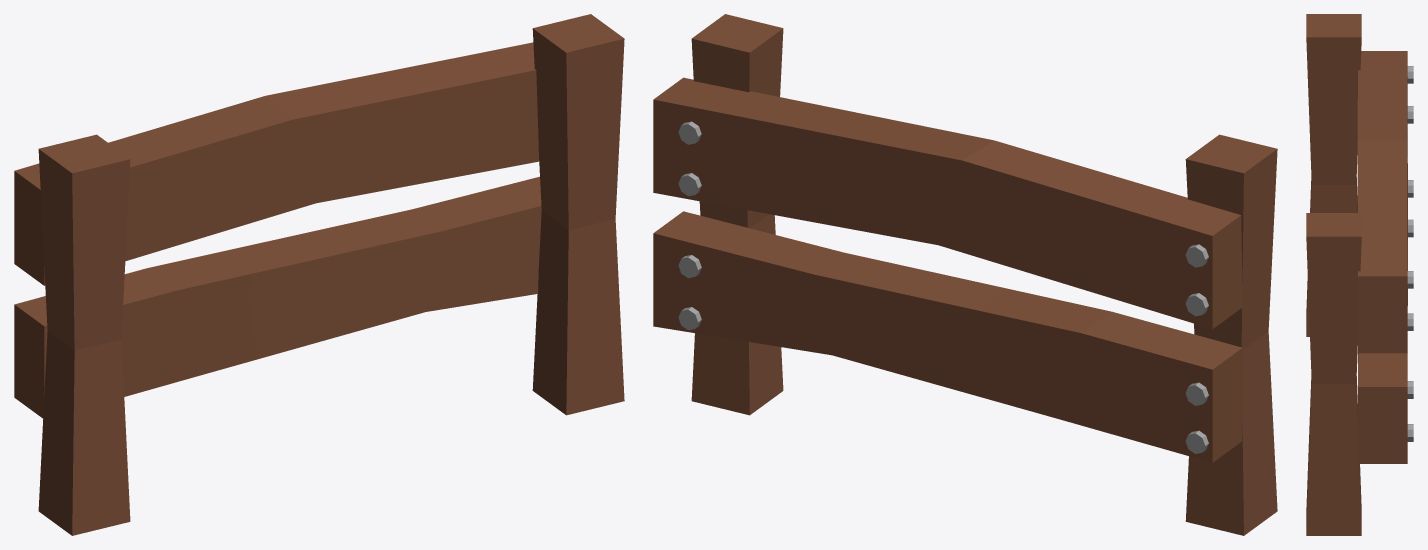
The model's file is Fence1.glb.
3 renders of one model, left to right at view 1: azimuth 30°, elevation 25°; view 2: azimuth 150°, elevation 25°; view 3: azimuth 270°, elevation 25°, orthographic. The views are drawn at different scales.
Parts seen in each view (by area): view 1: Fence 1; view 2: Fence 1; view 3: Fence 1.
Boxes of the visible parts, box(x1,y1,x2,y2) form: Fence 1: box(14, 14, 624, 535); Fence 1: box(653, 14, 1277, 535); Fence 1: box(1306, 14, 1413, 535).
Size of the model in its own units: 18.84 by 11.6 by 3.77.
